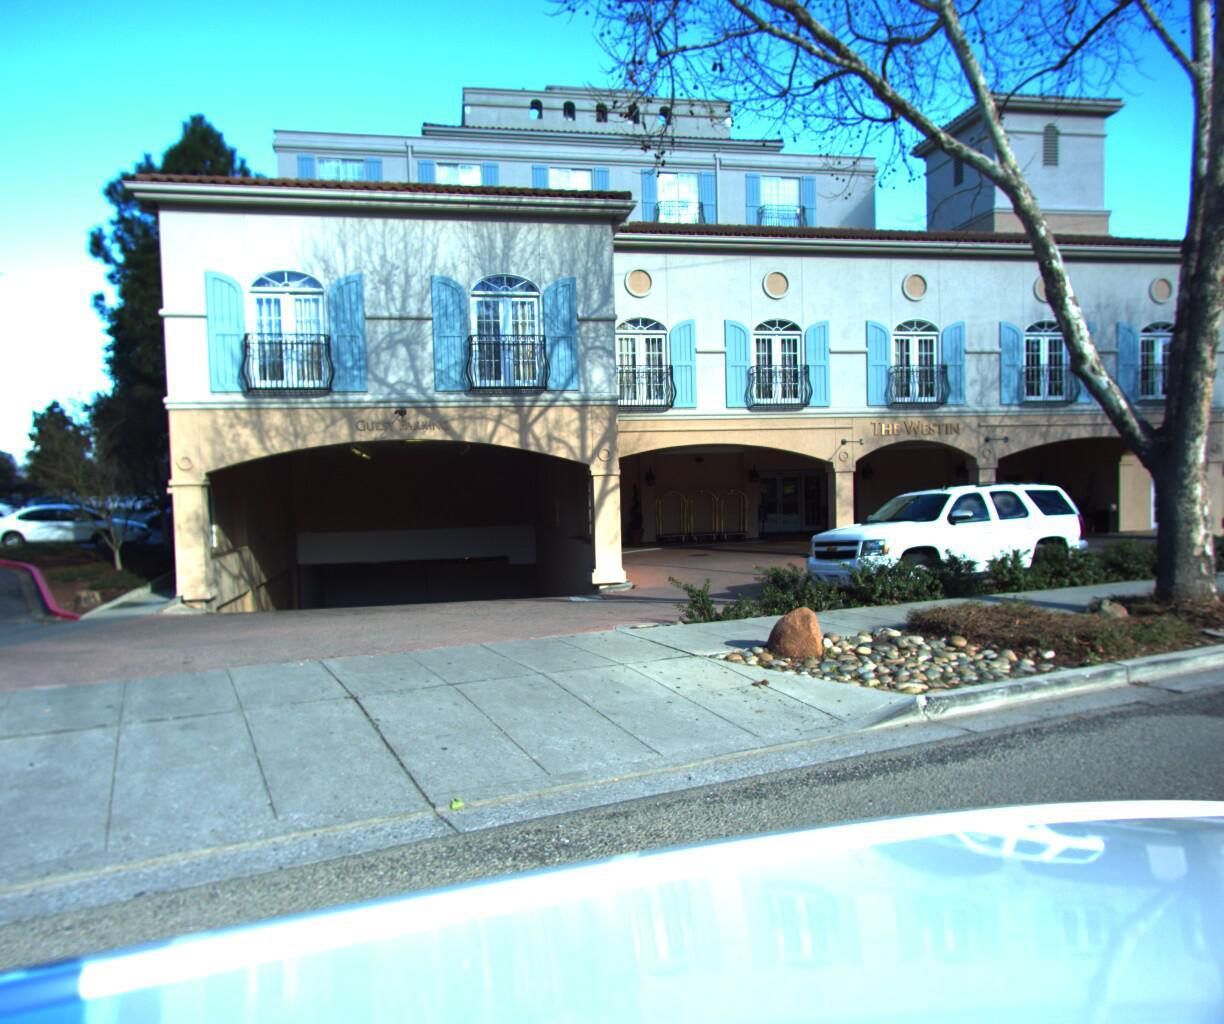car: (789, 470, 1112, 617), (0, 497, 162, 551)
